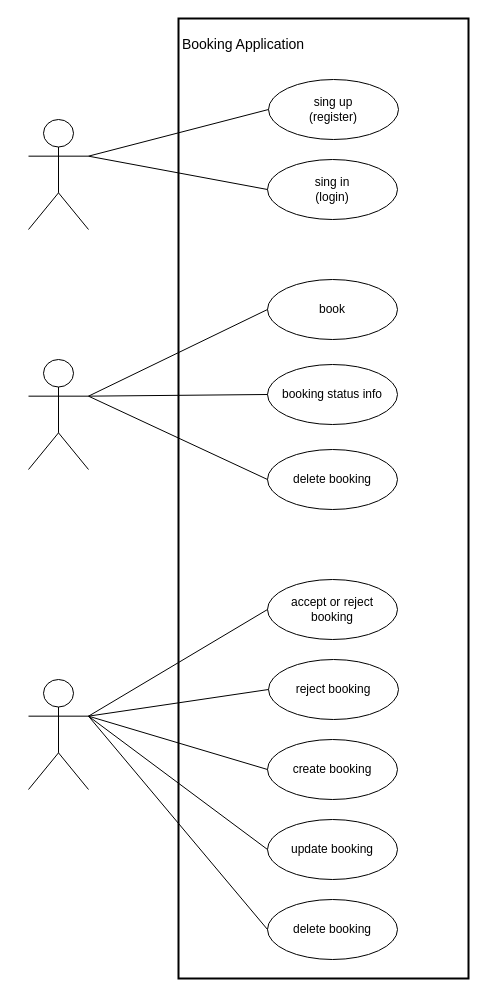
The diagram is 487 pixels wide and 996 high, and some of its shapes have lost their labels. The shapes that lost their labels are listed below. From the top down, each one's centre as x and y in pixels, then its label:
point (58, 174): User
point (58, 414): Member
point (58, 734): Administrator
